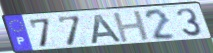2: (144, 8, 180, 43)
3: (176, 7, 204, 38)
7: (28, 17, 54, 49), (58, 14, 82, 47)
A: (90, 14, 125, 45)
H: (111, 10, 152, 45)
